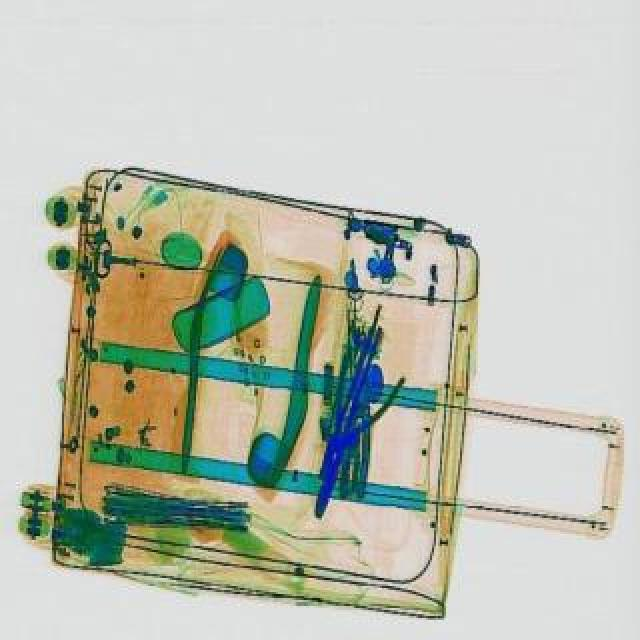wrench: (288, 348, 410, 492)
